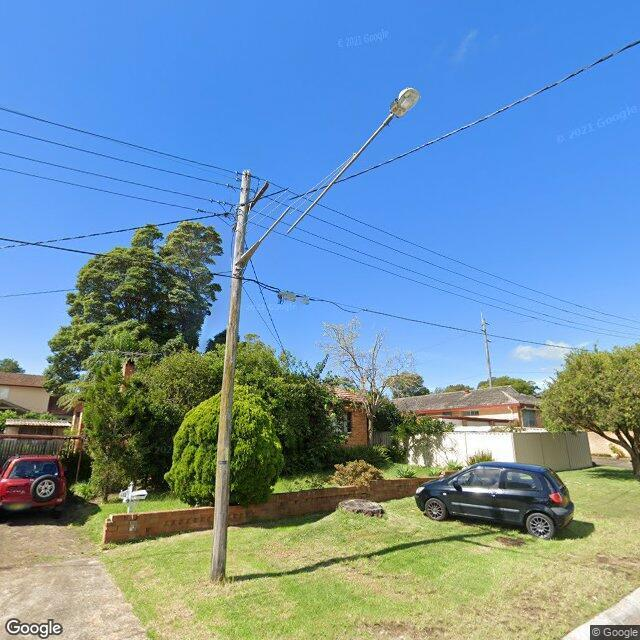crossarm: (247, 180, 269, 212)
streetlight: (236, 87, 420, 268)
timber-pole: (210, 169, 252, 582), (480, 311, 492, 387)
